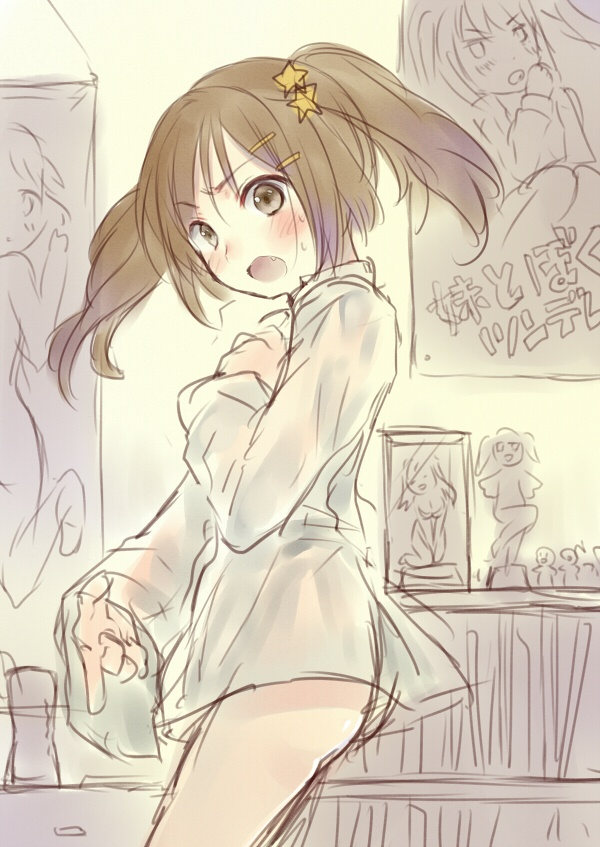纸片人正脸: (128, 46, 399, 311)
